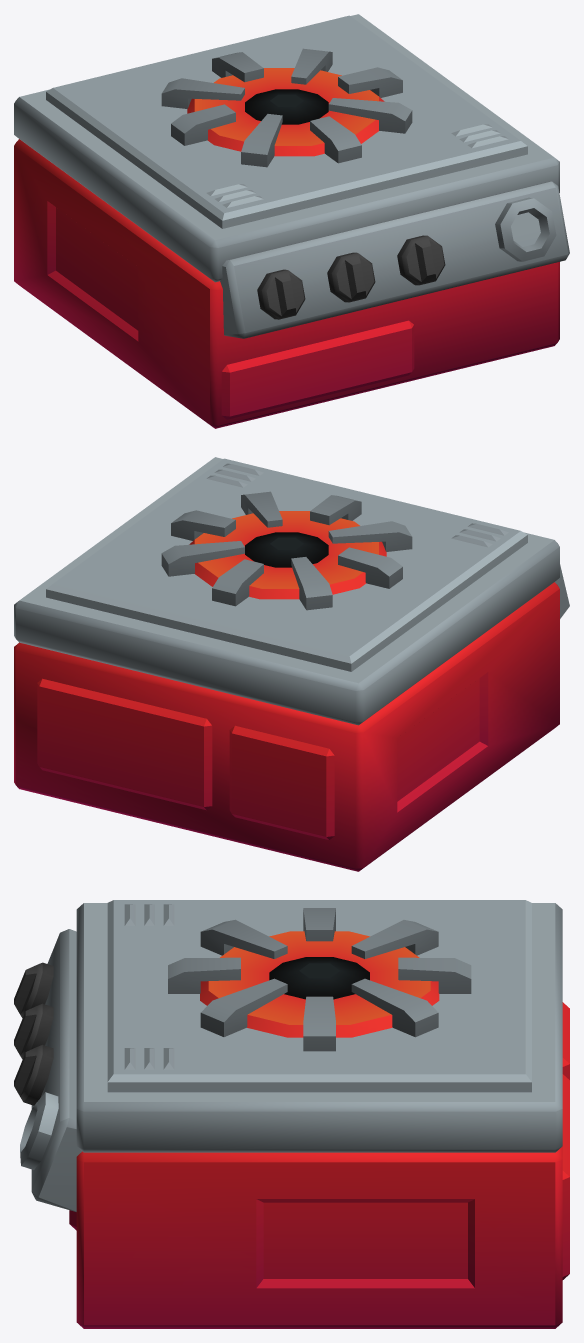
The model's file is kay-stove_single.glb.
3 renders of one model, top to bottom at view 1: azimuth 30°, elevation 25°; view 2: azimuth 150°, elevation 25°; view 3: azimuth 270°, elevation 25°, orthographic. The views are drawn at different scales.
Parts seen in each view (by area): view 1: stove_single; view 2: stove_single; view 3: stove_single.
Boxes of the visible parts, bbox=[...] form: stove_single: bbox=[14, 14, 569, 428]; stove_single: bbox=[14, 457, 569, 871]; stove_single: bbox=[14, 900, 569, 1328].
Bounding box in the file's own units: 0.8742 × 0.5279 × 1.
1 material, 1 textured.
